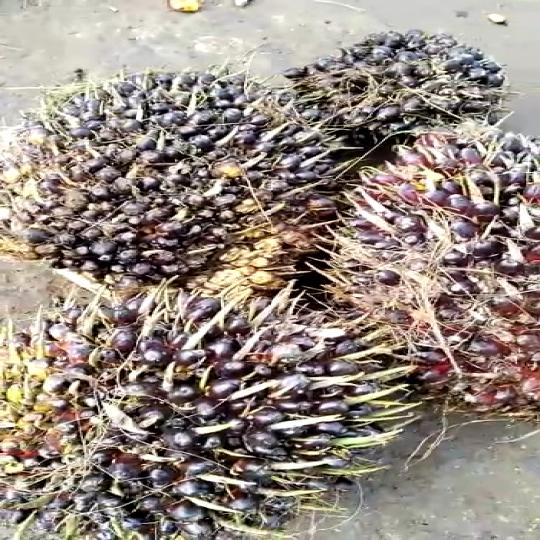mentah: (0, 298, 439, 540), (4, 56, 342, 278), (319, 128, 540, 426), (280, 12, 518, 136)
